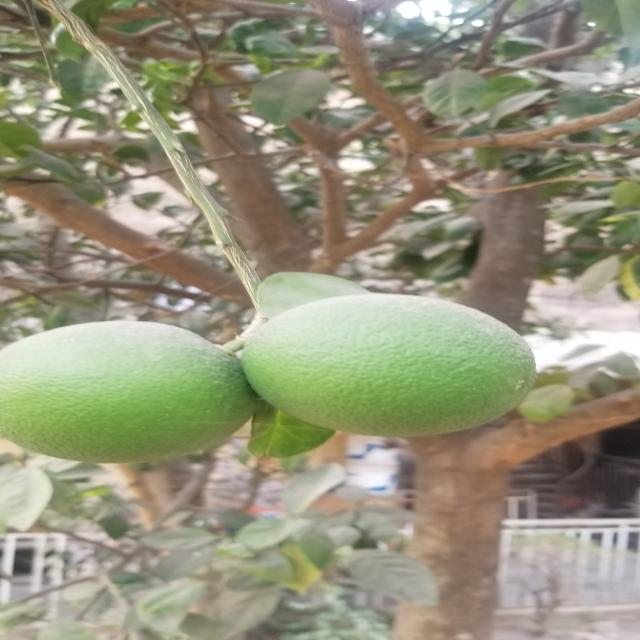Unripe: (245, 294, 529, 438), (10, 319, 268, 467)
